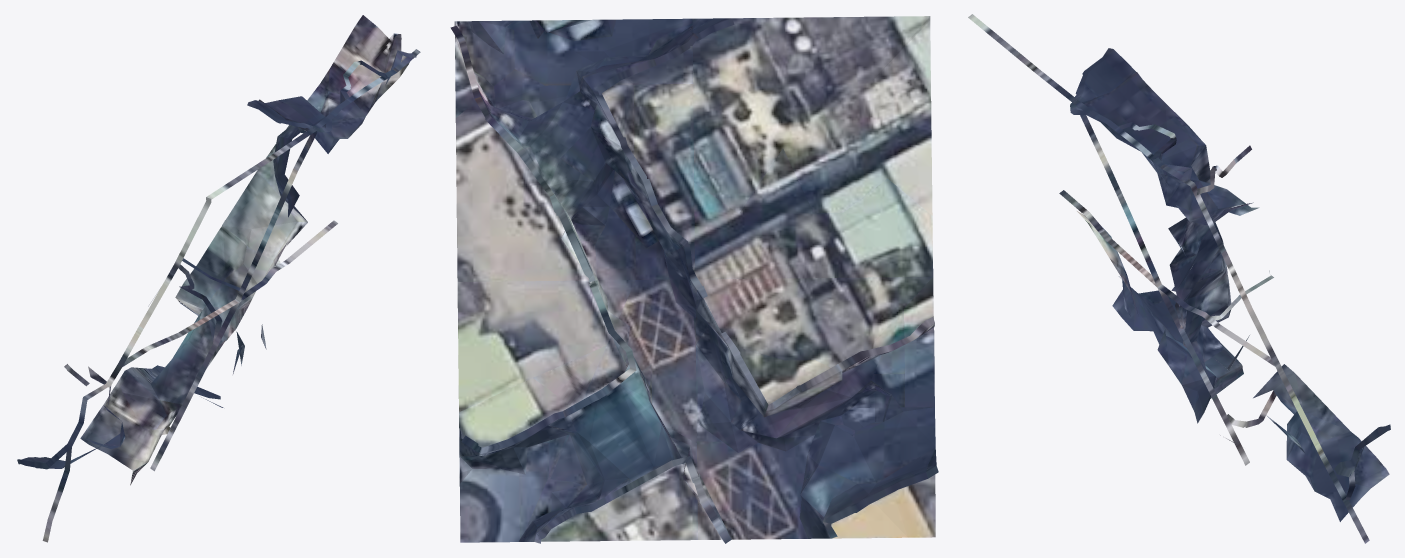
3 renders of one model, left to right at view 1: azimuth 30°, elevation 25°; view 2: azimuth 150°, elevation 25°; view 3: azimuth 270°, elevation 25°, orthographic. The views are drawn at different scales.
Bounding box in the file's own units: 39.83 × 37.22 × 32.94.
1 material, 1 textured.
